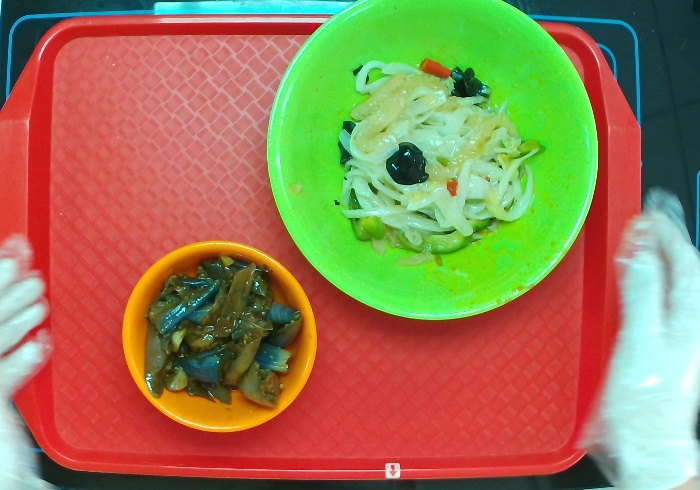YKMZ-Ju_Se_Yuan_Wan: (123, 241, 320, 435)
YKMZ-Lv_Se_Tang_Wan: (265, 1, 602, 322)
